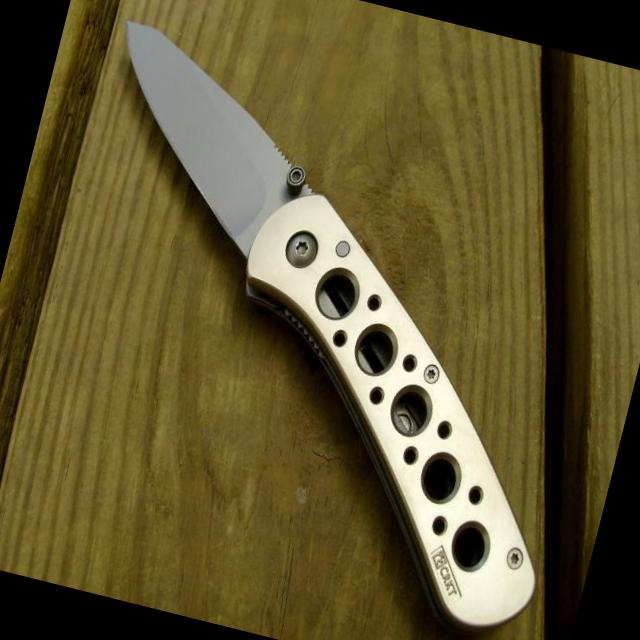Knife: (127, 21, 535, 631)
